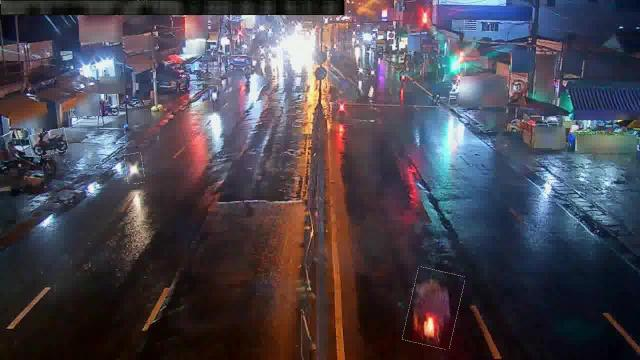Bike: (406, 268, 462, 347), (29, 130, 67, 156), (125, 152, 144, 184), (337, 99, 348, 115), (210, 86, 218, 102)
